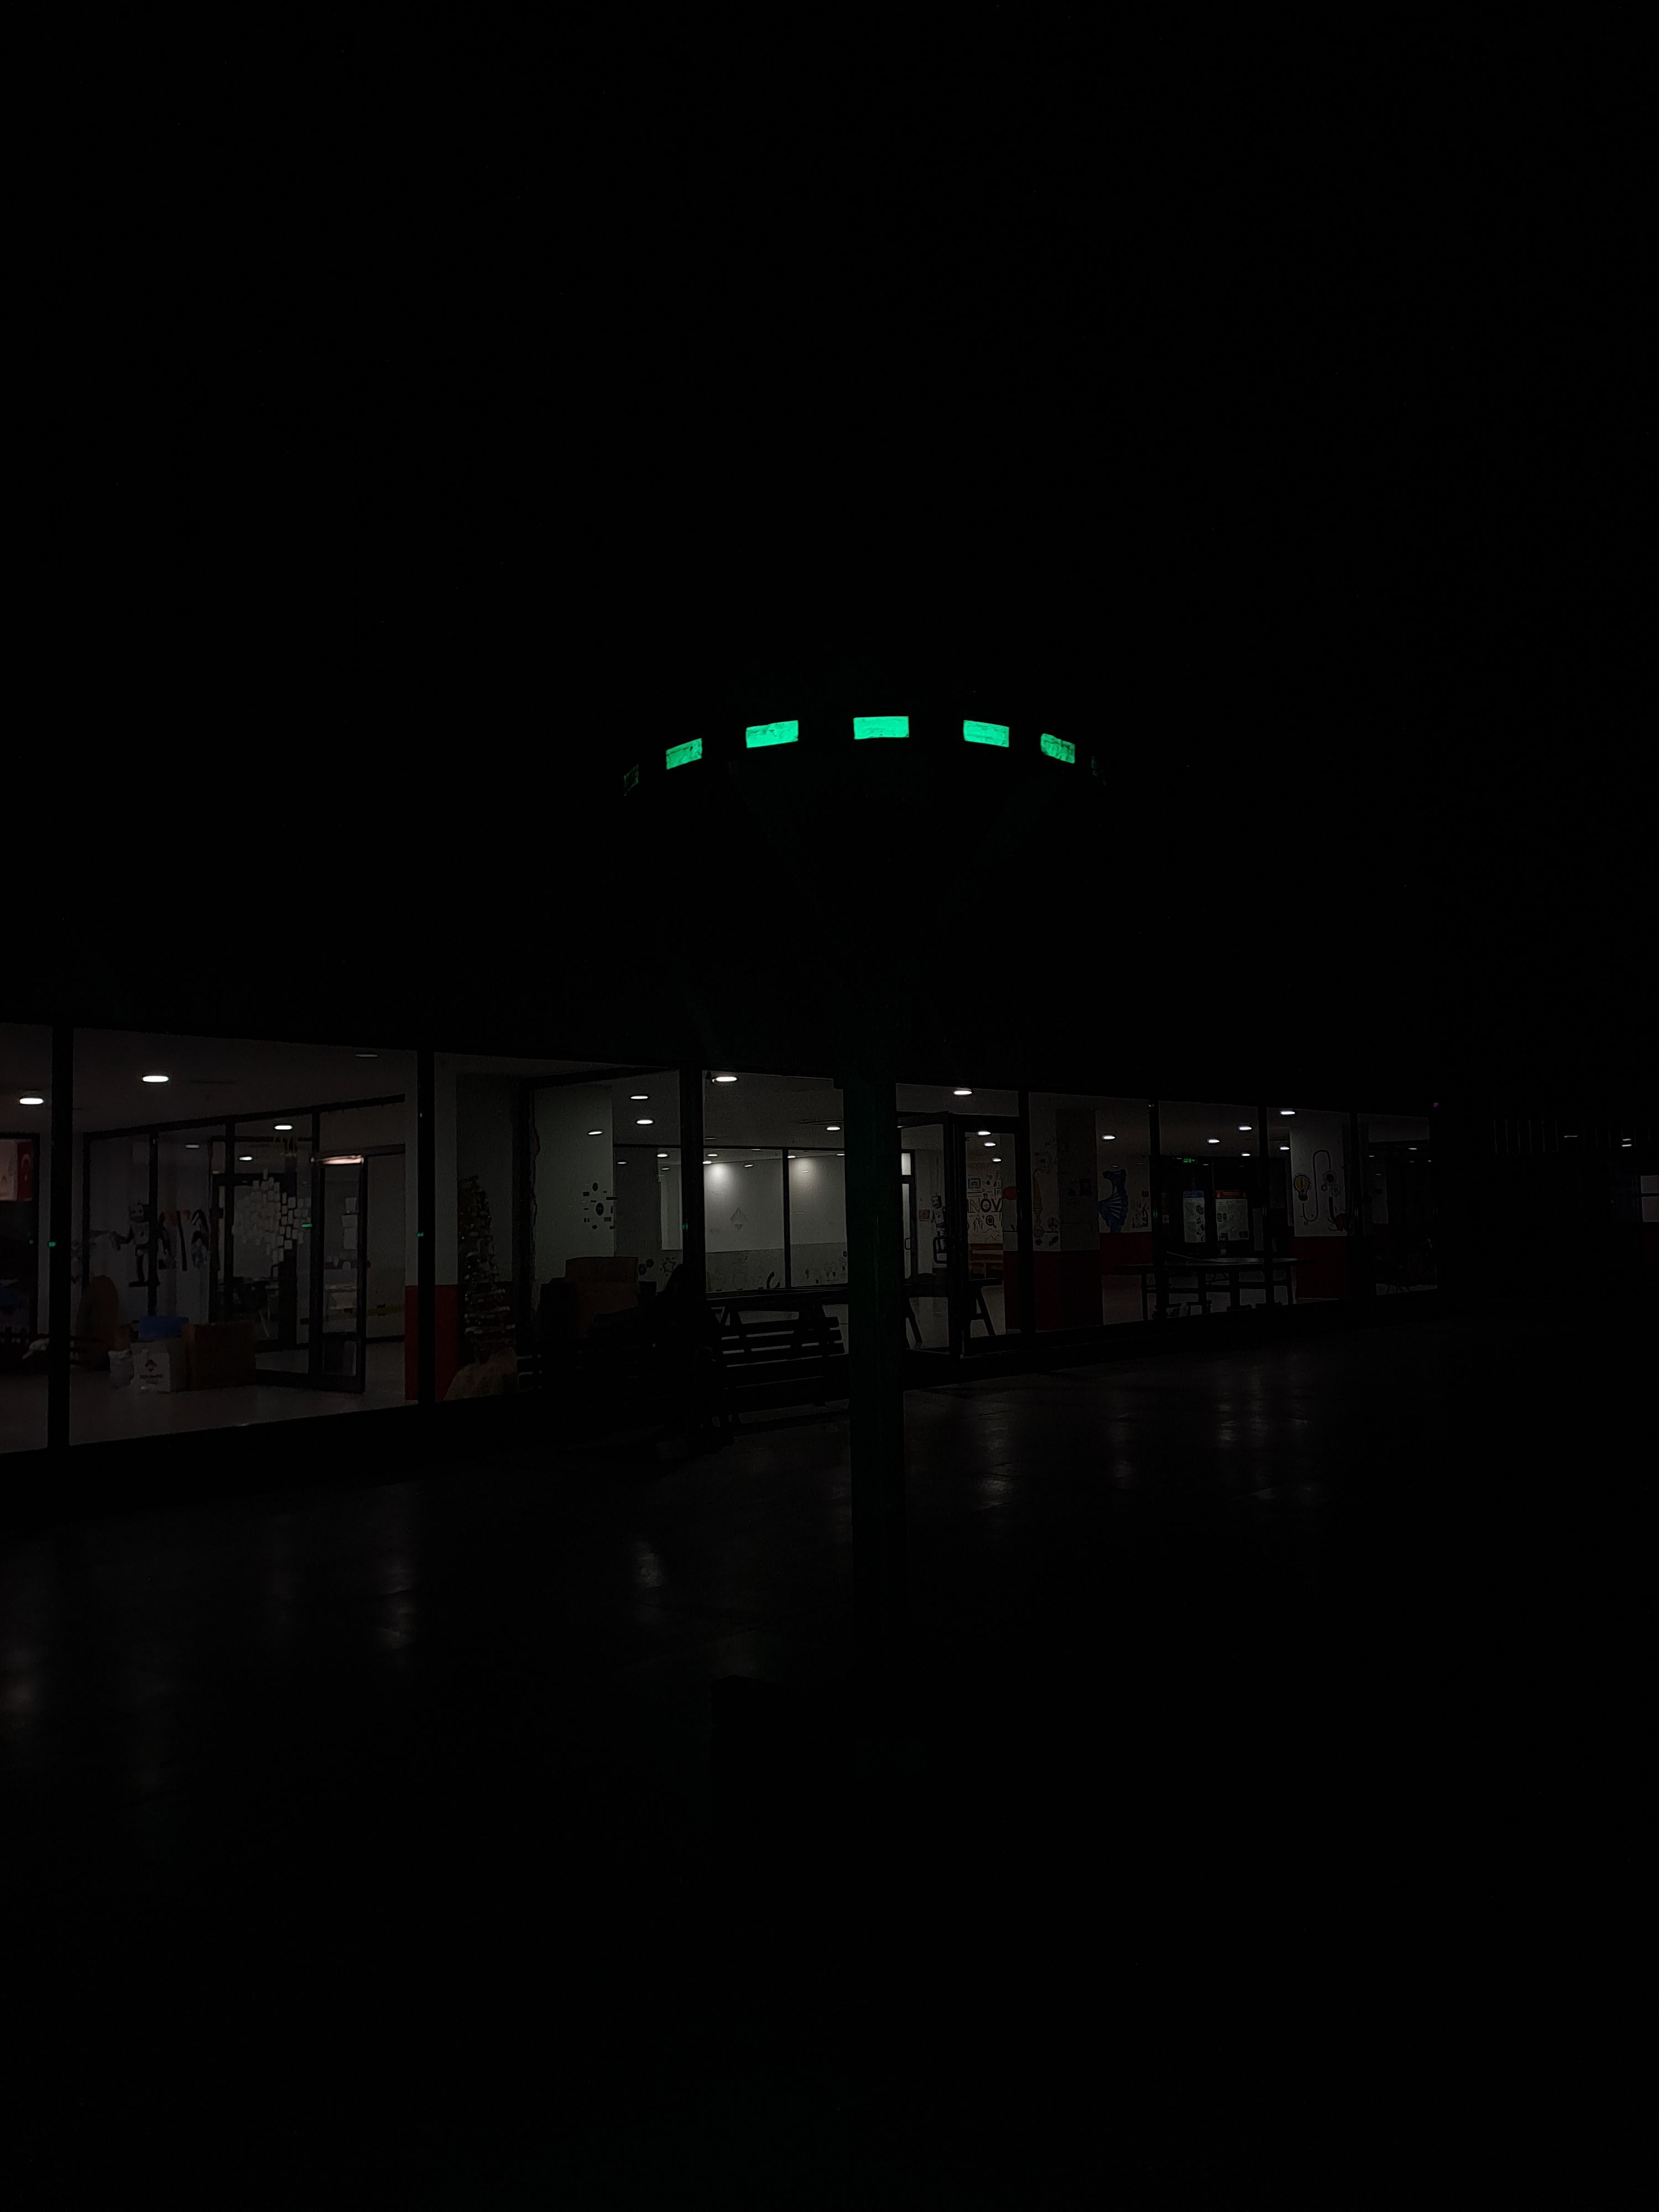hoop: (655, 712, 1082, 777)
